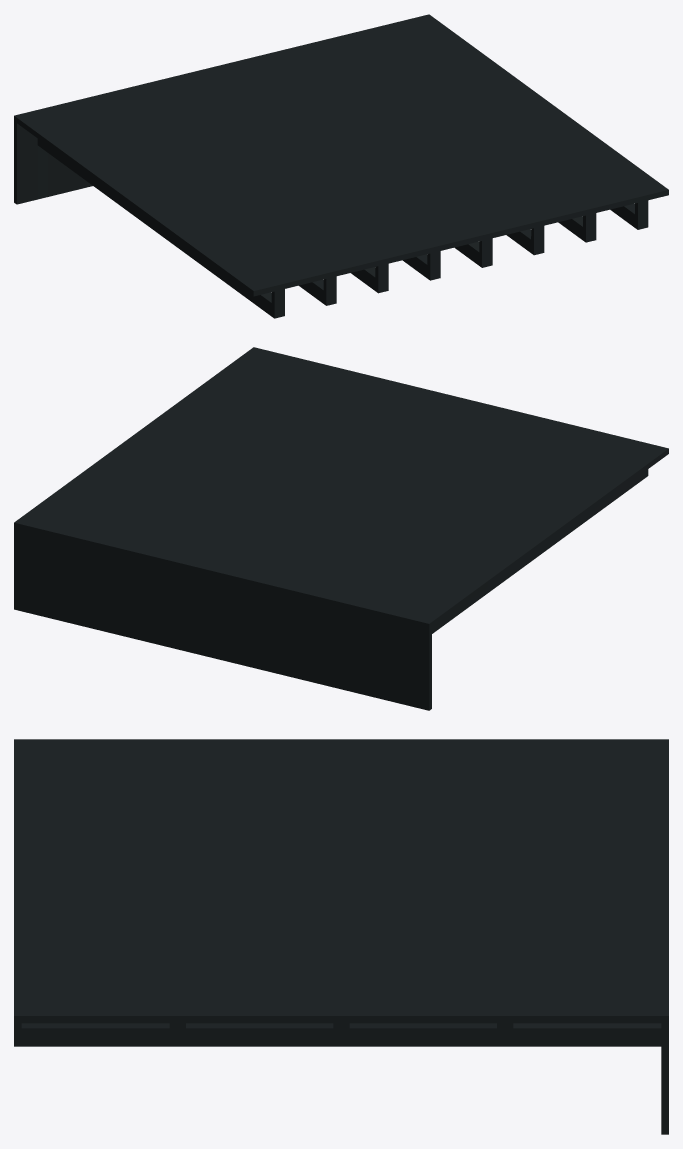
Rendered from Roof_Edge.glb.
3 views of the same model, one above another, from view 1: azimuth 30°, elevation 25°; view 2: azimuth 150°, elevation 25°; view 3: azimuth 270°, elevation 25° (orthographic). The views are drawn at different scales.
Parts seen in each view (by area): view 1: Roof_Edge; view 2: Roof_Edge; view 3: Roof_Edge.
Part boxes in pixels (box(x1,y1,x2,y2)): Roof_Edge: box(14, 14, 668, 318); Roof_Edge: box(14, 347, 668, 710); Roof_Edge: box(14, 739, 668, 1134).
Bounding box in the file's own units: 8 × 2.21 × 8.
1 material, 1 textured.
